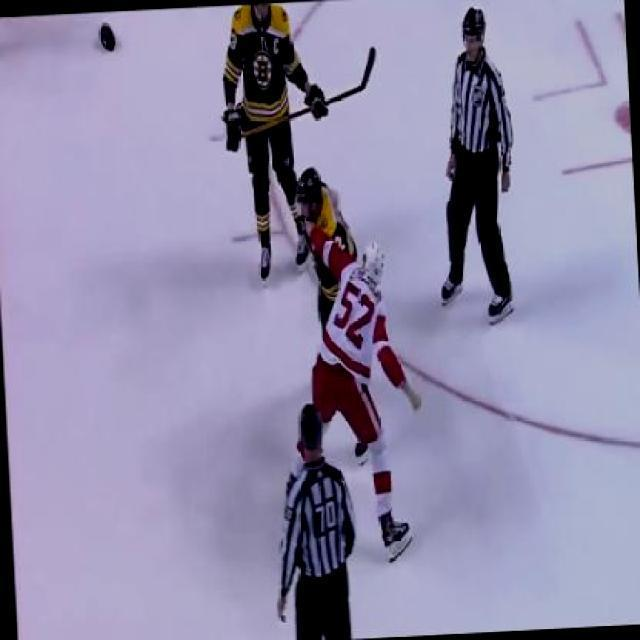fight: (296, 160, 422, 466)
non-fight: (424, 3, 524, 328)
